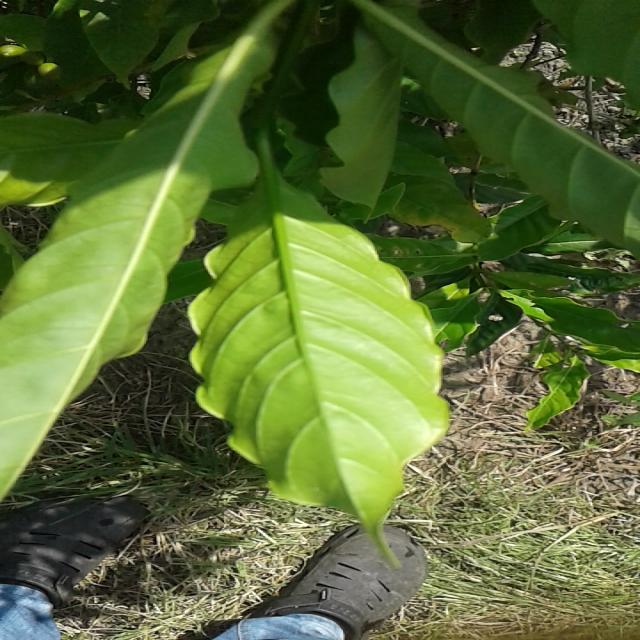Sanas: (189, 145, 451, 566)
